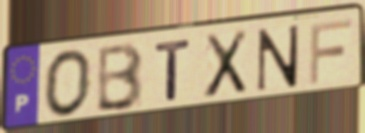B: (94, 40, 146, 114)
F: (307, 17, 354, 86)
N: (254, 22, 302, 94)
O: (42, 48, 94, 120)
T: (153, 37, 194, 103)
X: (202, 27, 249, 101)
